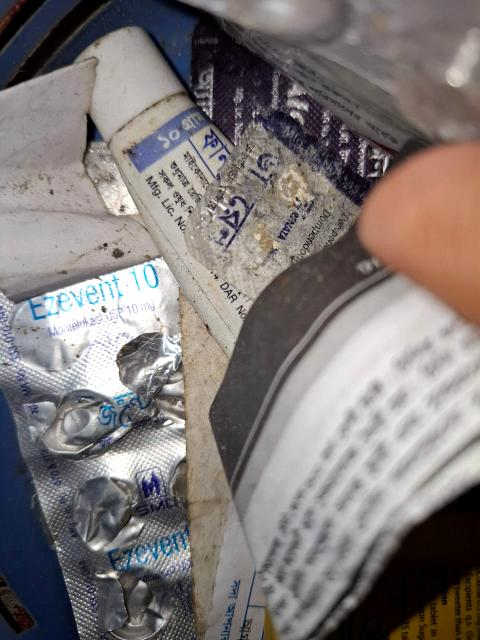medicine: (0, 246, 205, 640)
